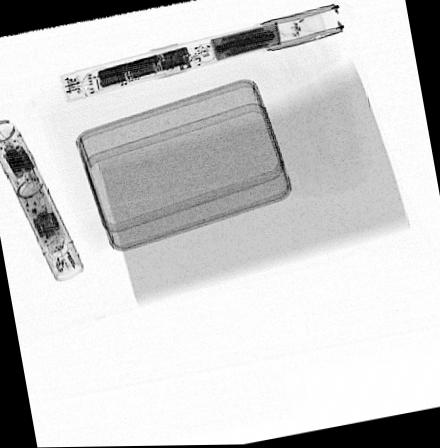Baton: (57, 3, 344, 102), (0, 116, 83, 282)
